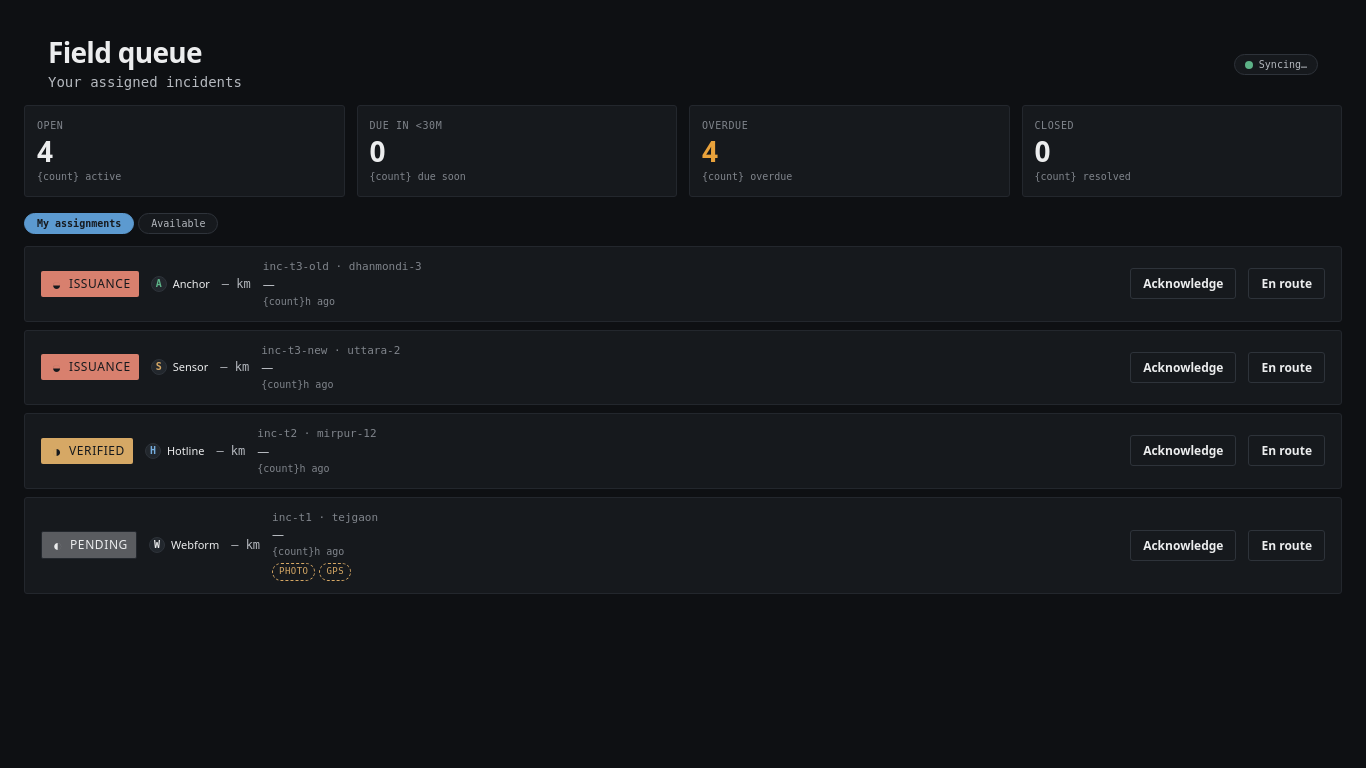
it: WO-006 Field Queue reconciliation › switches between My assignments (default) and Available filter chips
The width and height of the screenshot is (1366, 768).
Check: the link with test id "field-queue-row-inc-t3-old" is shown, box [24, 246, 1342, 322]
Click the button with test id "field-queue-chip-available" at (178, 224), box [138, 213, 218, 234]
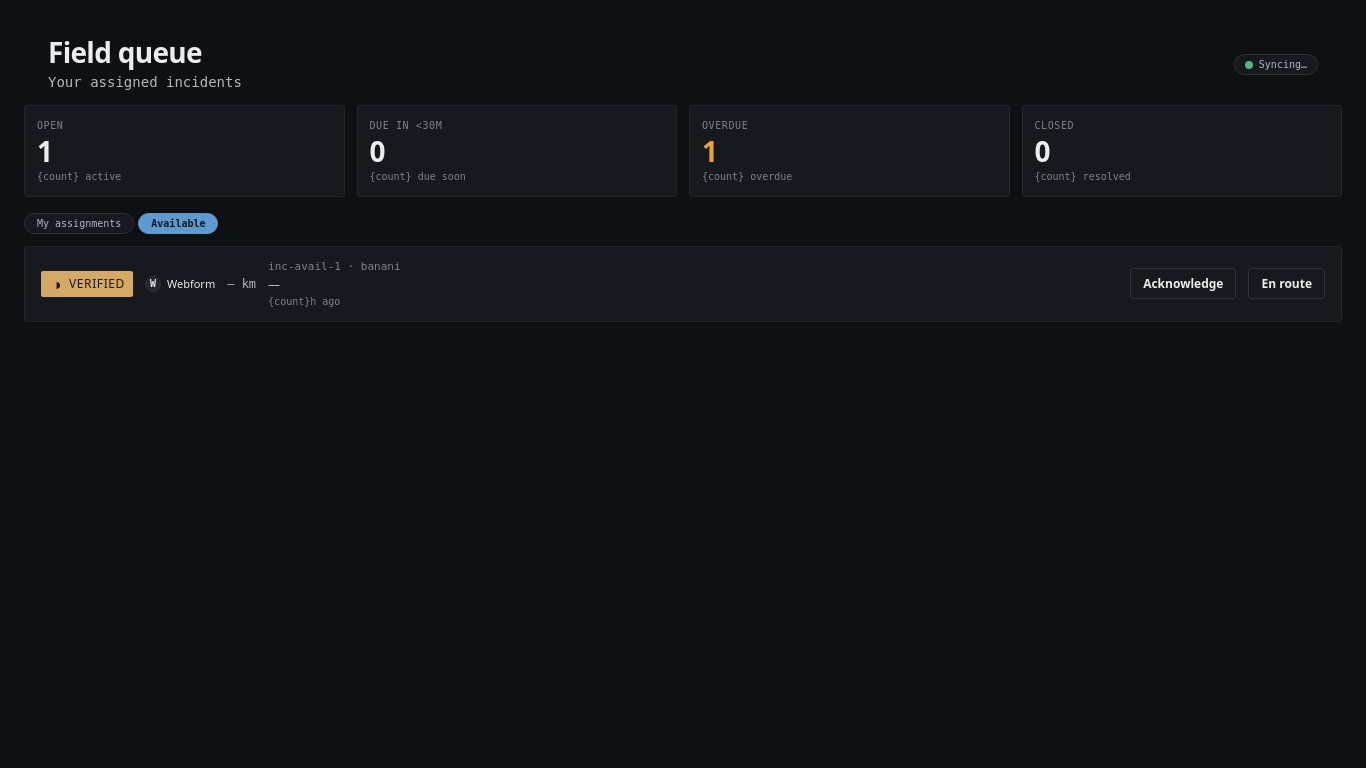
Check: the link with test id "field-queue-row-inc-avail-1" is shown, box [24, 246, 1342, 322]
Check: the link with test id "field-queue-row-inc-t3-old" is gone
Click the button with test id "field-queue-chip-mine" at (79, 224), box [24, 213, 134, 234]
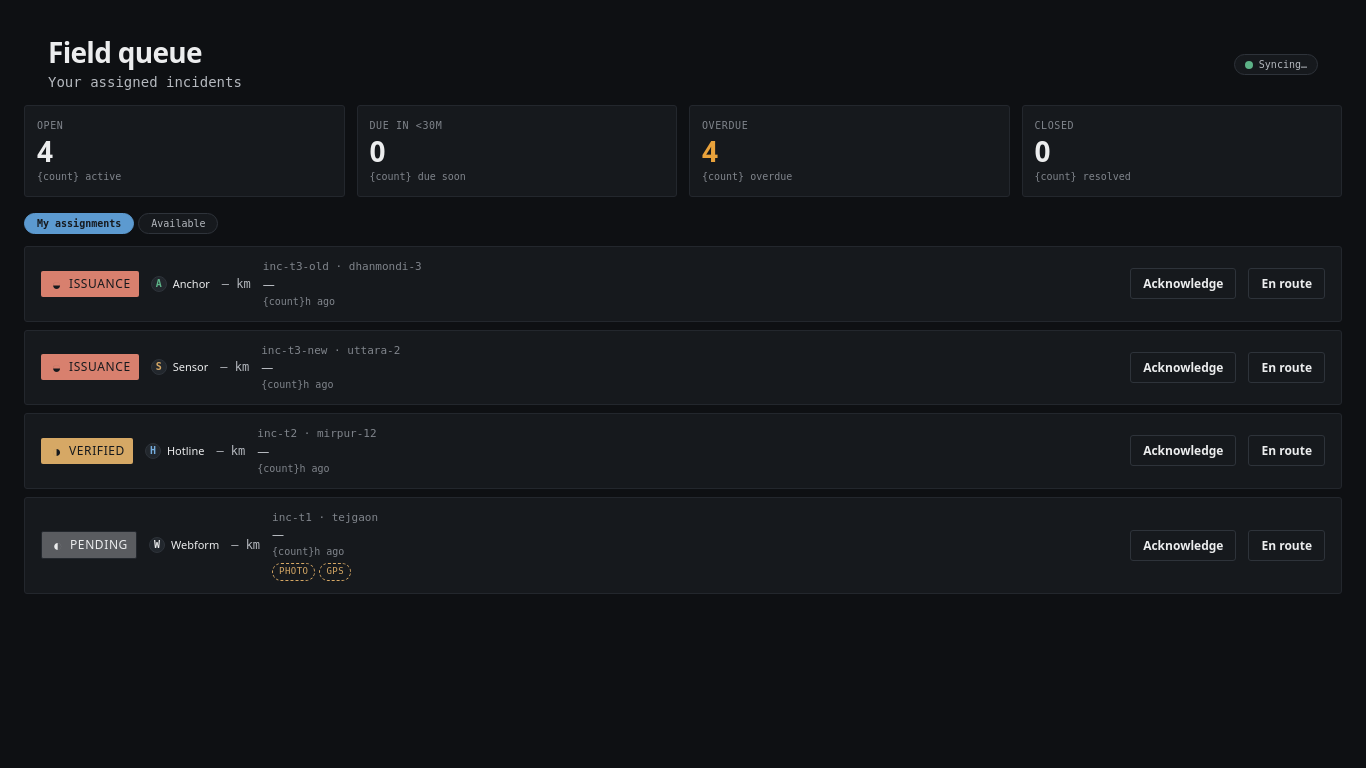
Check: the link with test id "field-queue-row-inc-t3-old" is shown, box [24, 246, 1342, 322]
